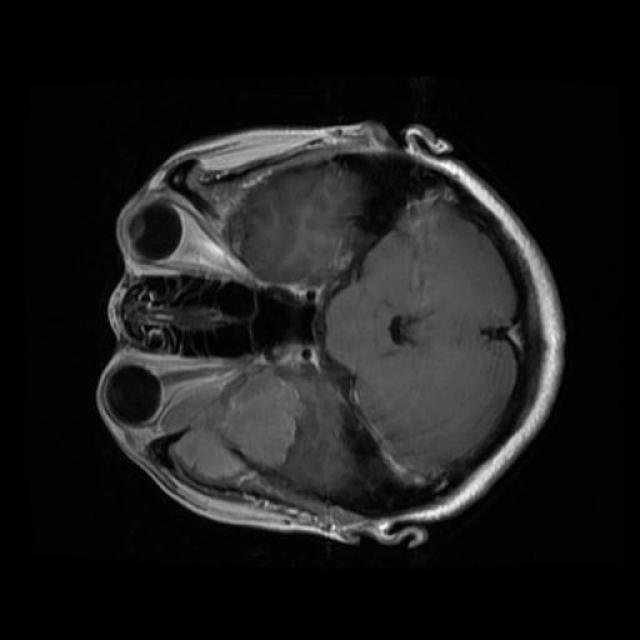Meningioma: (162, 366, 301, 496)
